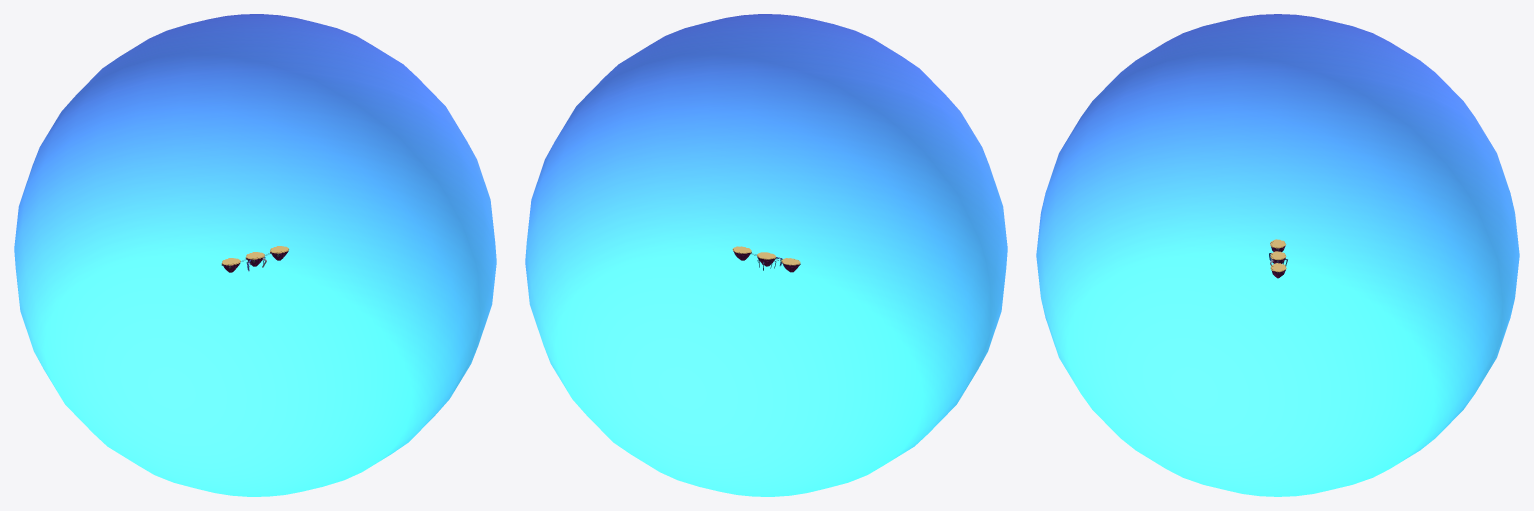
The model's file is the_3_islands.glb.
3 renders of one model, left to right at view 1: azimuth 30°, elevation 25°; view 2: azimuth 150°, elevation 25°; view 3: azimuth 270°, elevation 25°, orthographic.
Parts seen in each view (by area): view 1: Object_19, Object_20; view 2: Object_19, Object_20; view 3: Object_19.
Boxes of the visible parts, <box> form: Object_19: <box>14,14,496,496</box>; Object_20: <box>221,246,288,272</box>; Object_19: <box>525,14,1007,496</box>; Object_20: <box>732,246,800,272</box>; Object_19: <box>1036,14,1519,496</box>.
Bounding box in the file's own units: 364 × 367 × 364.
8 materials, 5 textured.
